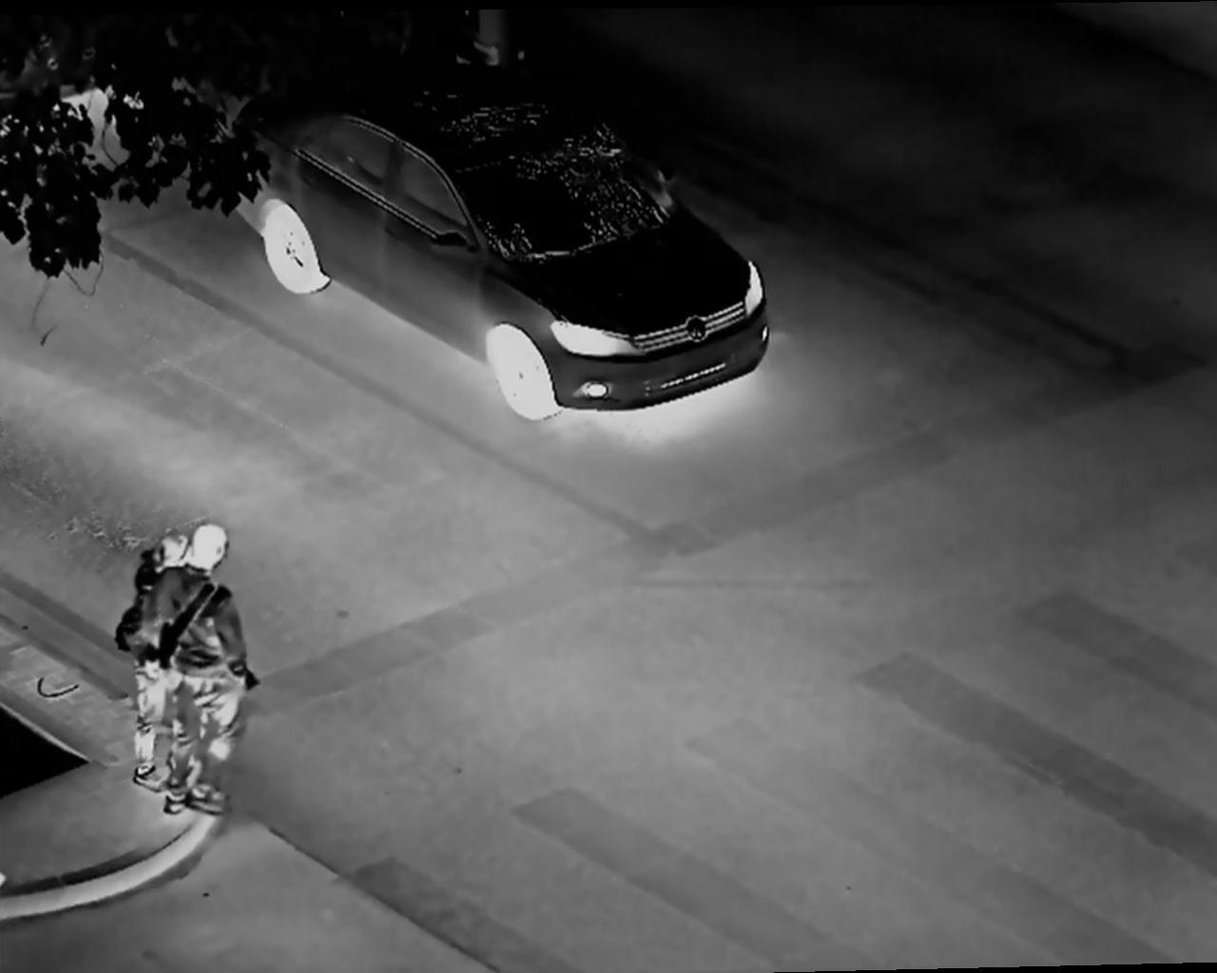person: (169, 524, 258, 817), (119, 535, 184, 790)
